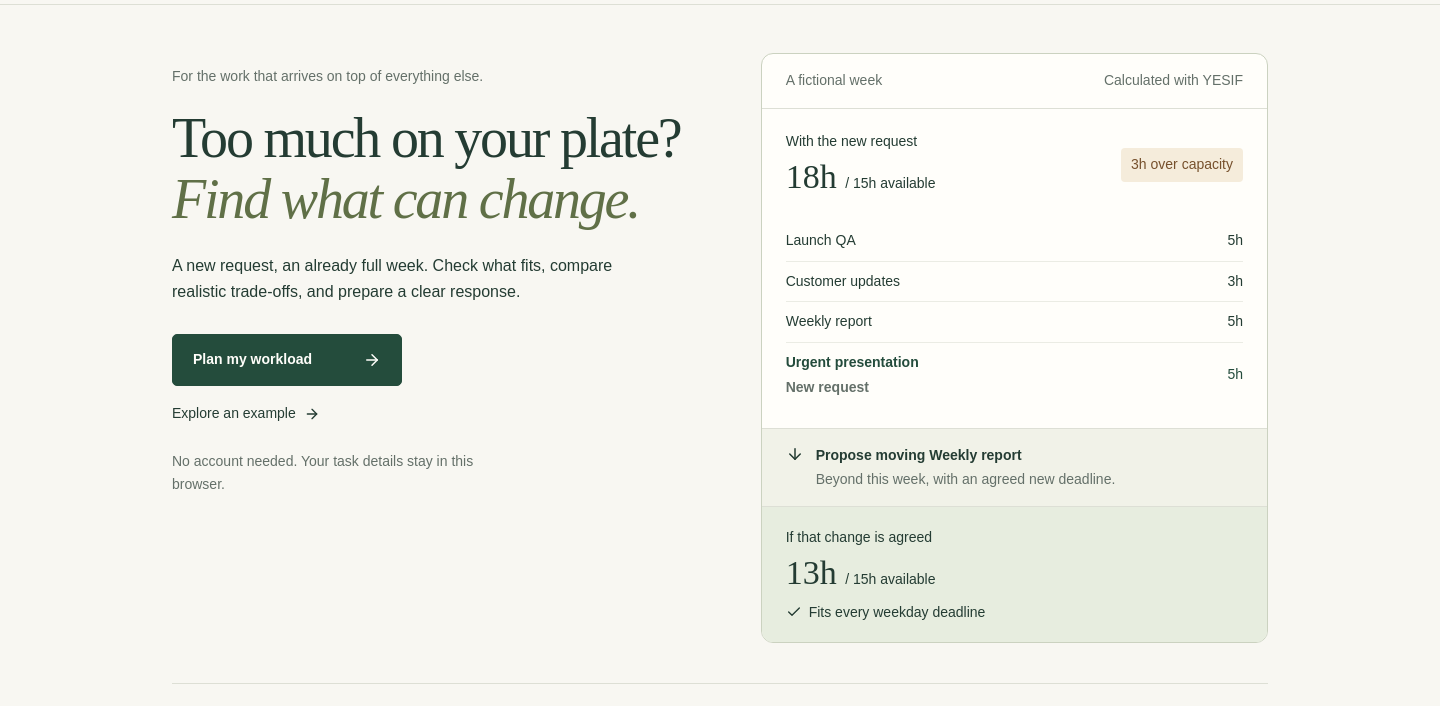
Test: complete product flows › gives a manual-copy fallback when clipboard access is denied
Click the button "Explore an example": (246, 414) [172,392,320,436]
(page scrolled)
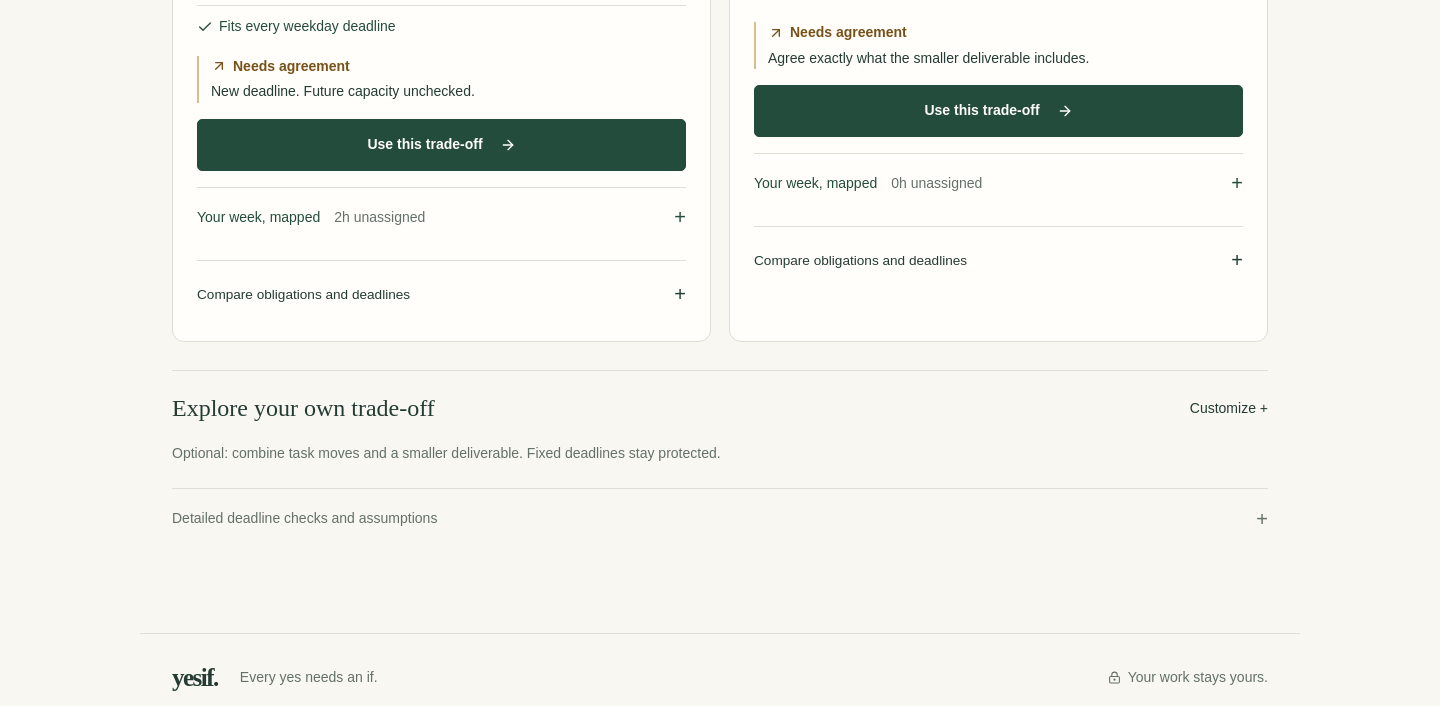
Click the button "Explore your own trade-off Customize +": (303, 408) [172,387,1268,431]
(page scrolled)
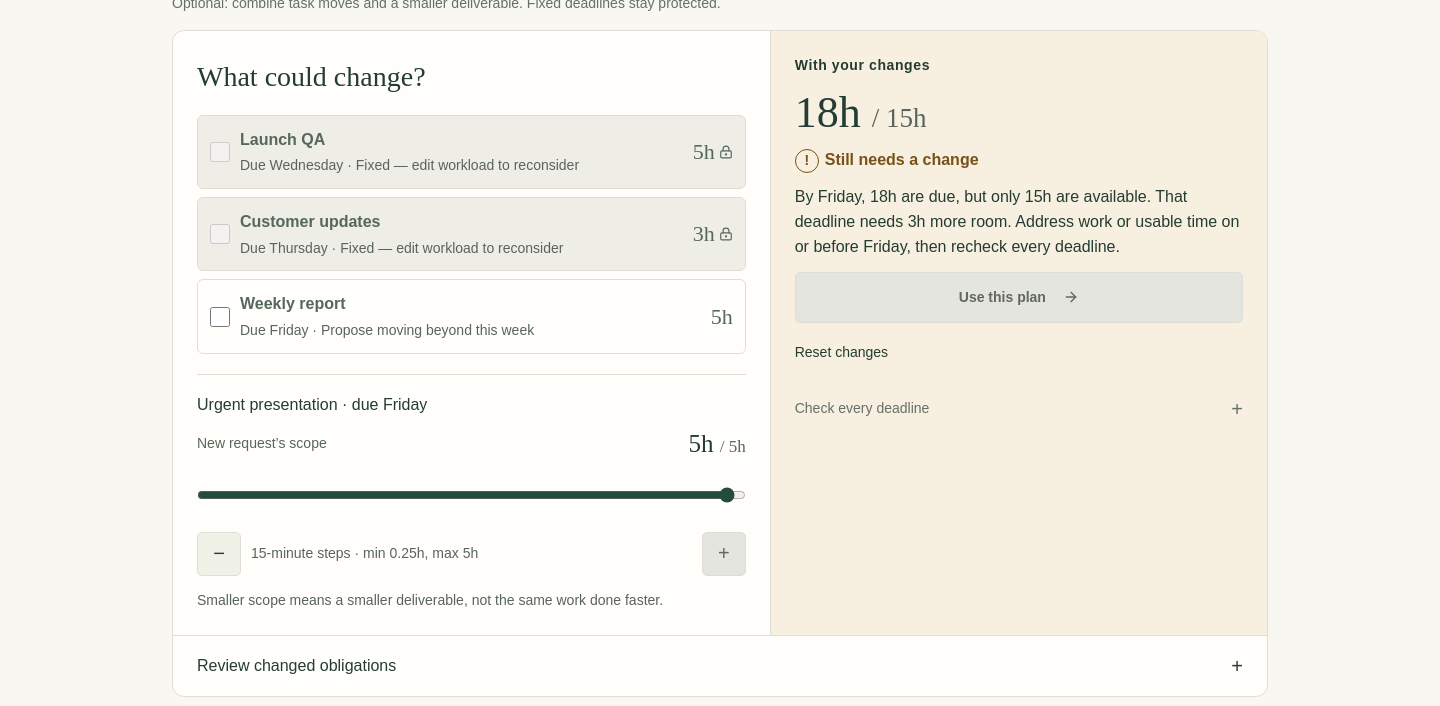
Click the checkbox named "Defer Weekly report": (220, 317) [210,307,230,327]
(page scrolled)
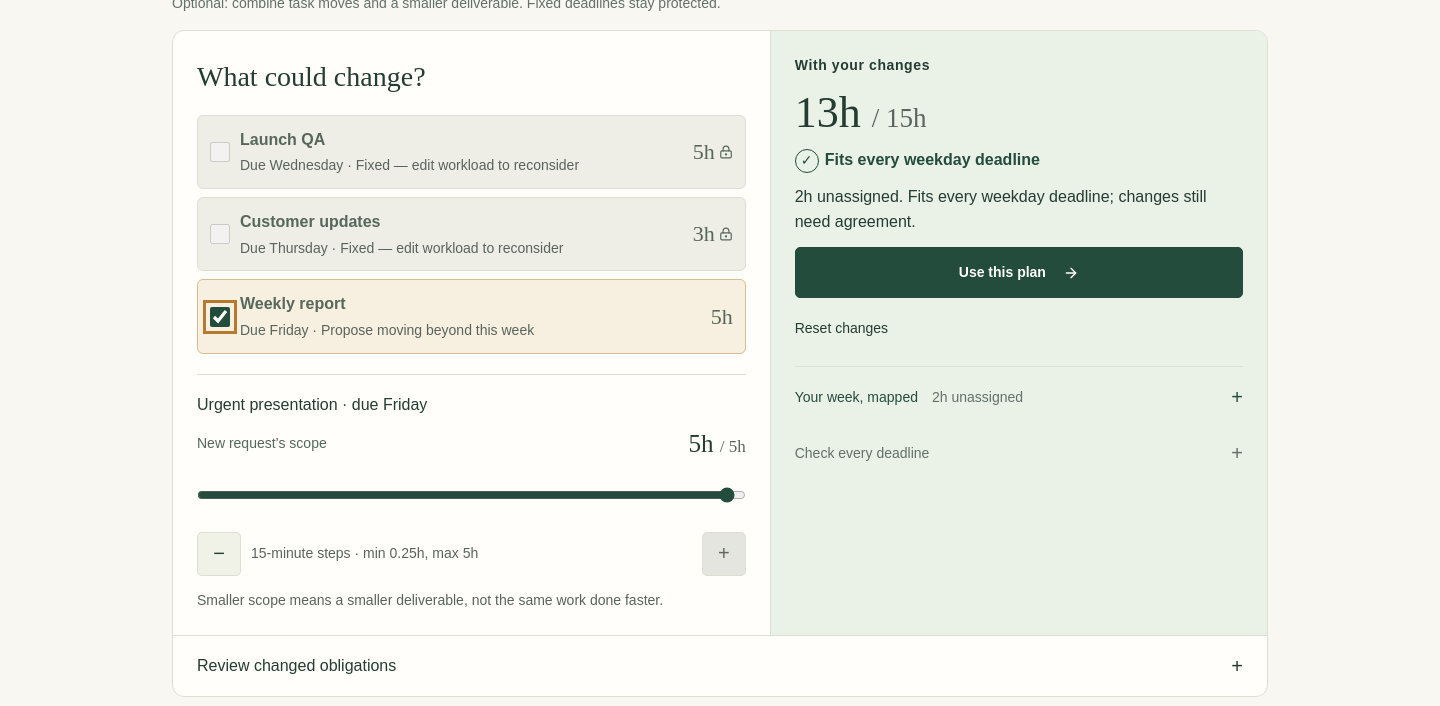
Click the button "Use this plan": (1019, 273) [795,247,1243,298]
(page scrolled)
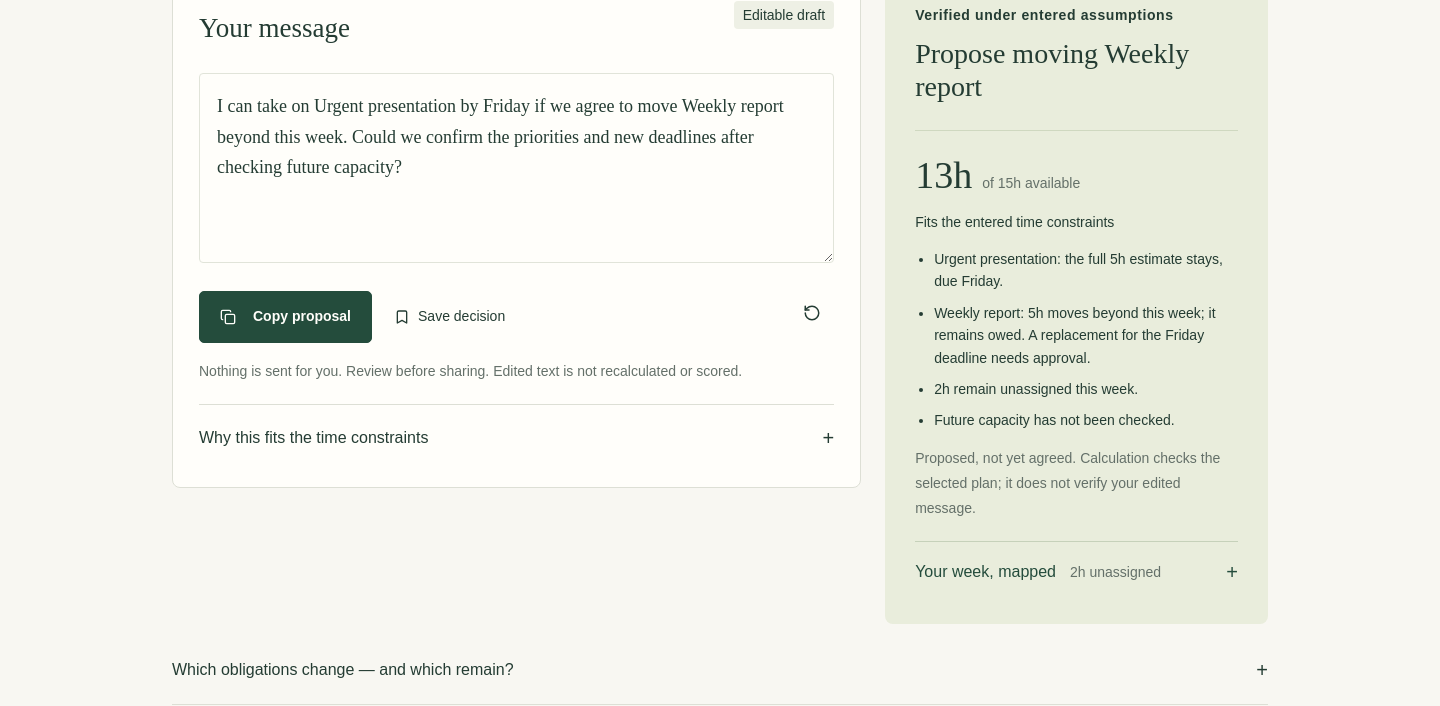
Click the button "Copy proposal": (286, 317) [199,291,372,343]
(page scrolled)
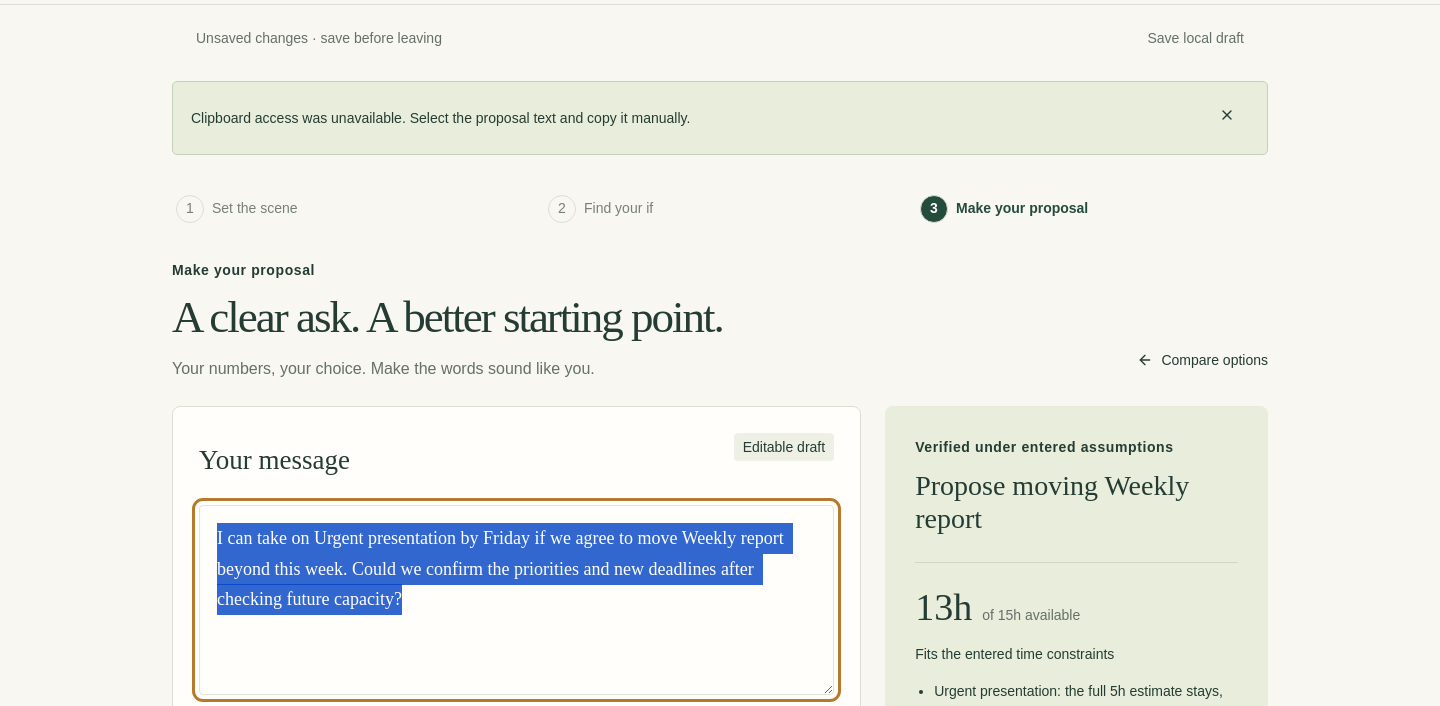
Result: the message shows "copy it manually" at [191,110,690,126]
